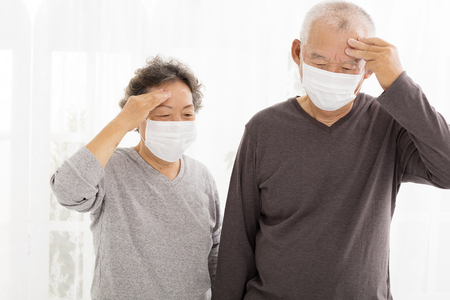with_mask: (302, 42, 363, 115), (141, 96, 196, 162)
